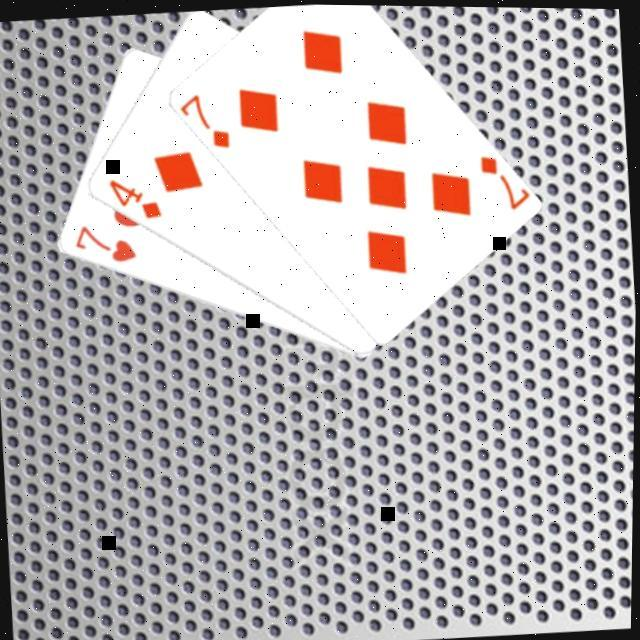4D: (104, 170, 166, 223)
7D: (176, 86, 235, 154), (475, 146, 532, 212)
7H: (70, 216, 142, 268)
